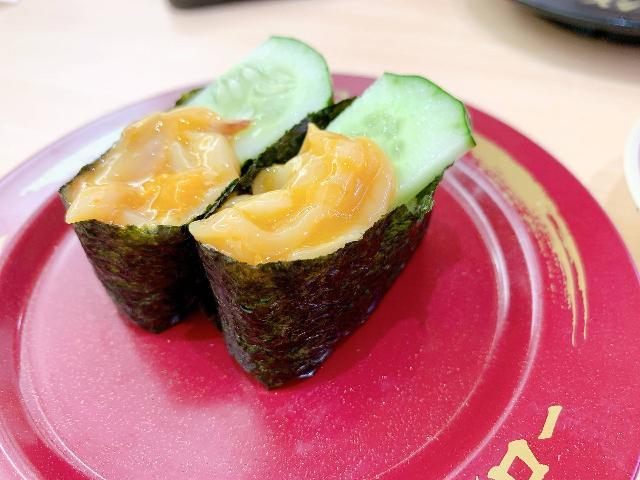janback: (489, 0, 640, 56)
janred: (0, 106, 623, 480)
